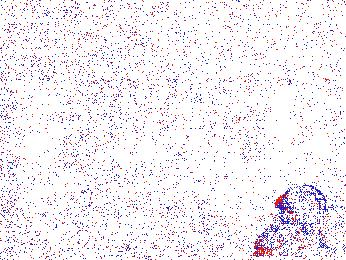flame jellyfish: (253, 184, 328, 252), (184, 197, 244, 243)
